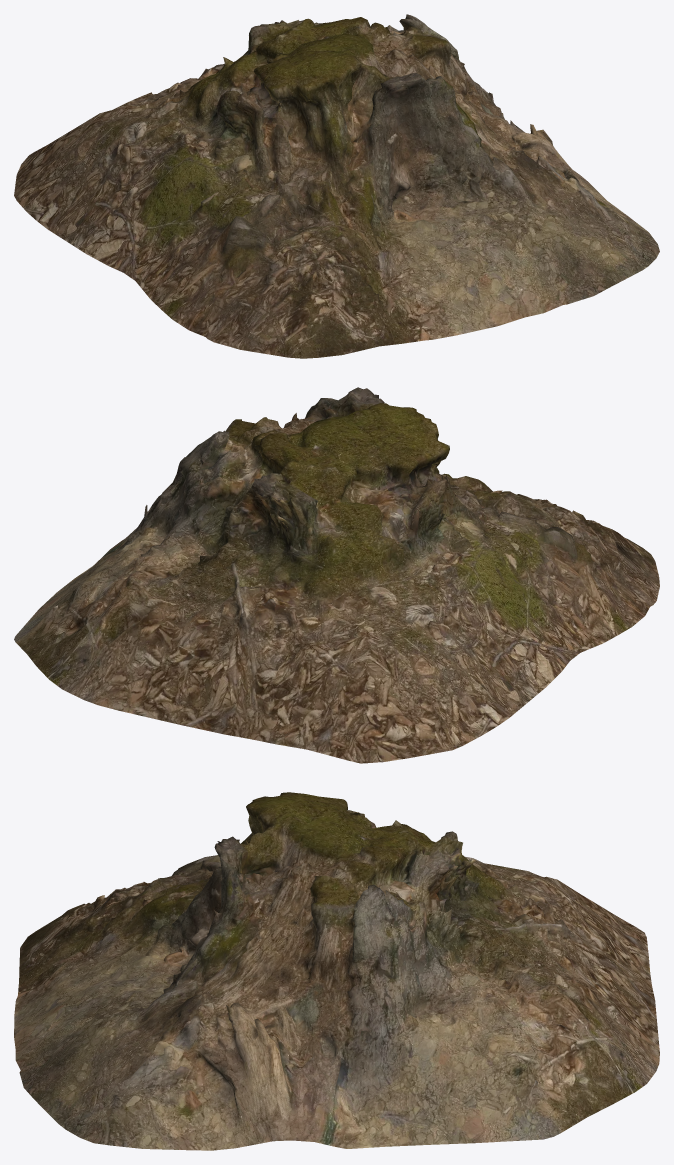
The model's file is tree_stump_01.glb.
3 views of the same model, one above another, from view 1: azimuth 30°, elevation 25°; view 2: azimuth 150°, elevation 25°; view 3: azimuth 270°, elevation 25° (orthographic). The views are drawn at different scales.
Parts seen in each view (by area): view 1: tree_stump_01; view 2: tree_stump_01; view 3: tree_stump_01.
Boxes of the visible parts, x1=… form: tree_stump_01: x1=14, y1=14, x2=659, y2=358; tree_stump_01: x1=14, y1=387, x2=659, y2=763; tree_stump_01: x1=14, y1=792, x2=659, y2=1150.
Bounding box in the file's own units: 1.43 × 0.5725 × 1.59.
1 material, 1 textured.
